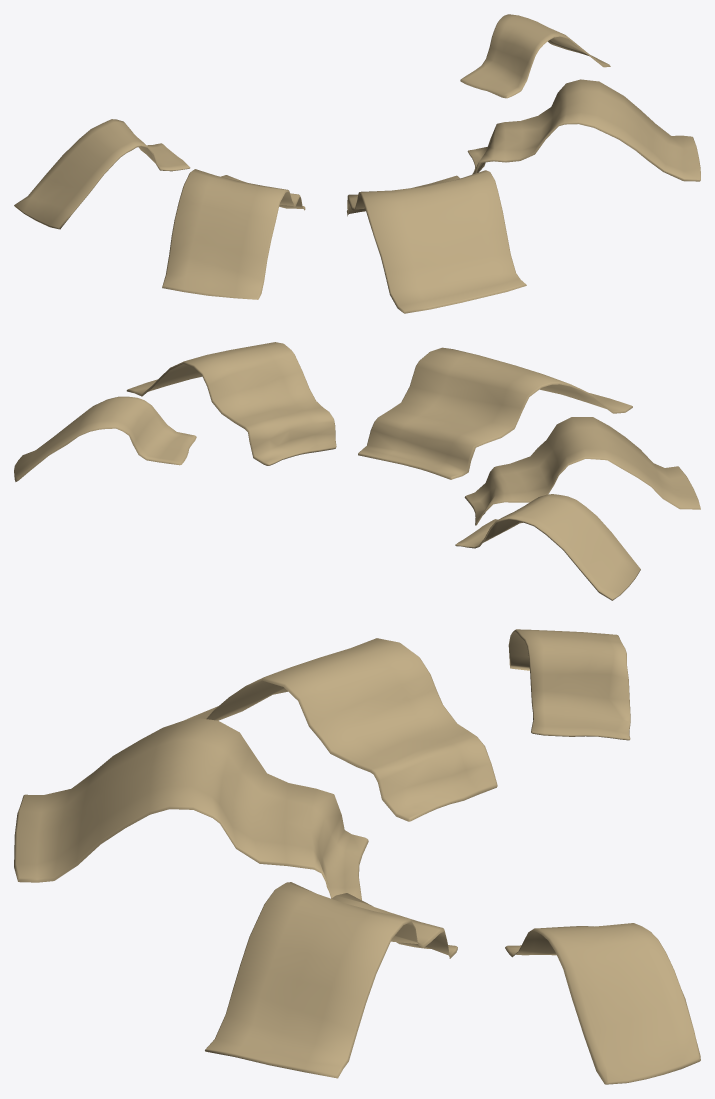
Rendered from Ht_ditan_02.FBX.
3 renders of one model, top to bottom at view 1: azimuth 30°, elevation 25°; view 2: azimuth 150°, elevation 25°; view 3: azimuth 270°, elevation 25°, orthographic. The views are drawn at different scales.
Parts seen in each view (by area): view 1: Ht_ditan_02; view 2: Ht_ditan_02; view 3: Ht_ditan_02.
Part boxes in pixels (x1,y1,x2,y2): Ht_ditan_02: (14,14,700,313); Ht_ditan_02: (14,342,700,600); Ht_ditan_02: (14,629,700,1084).
Bounding box in the file's own units: 905 × 99.44 × 629.
